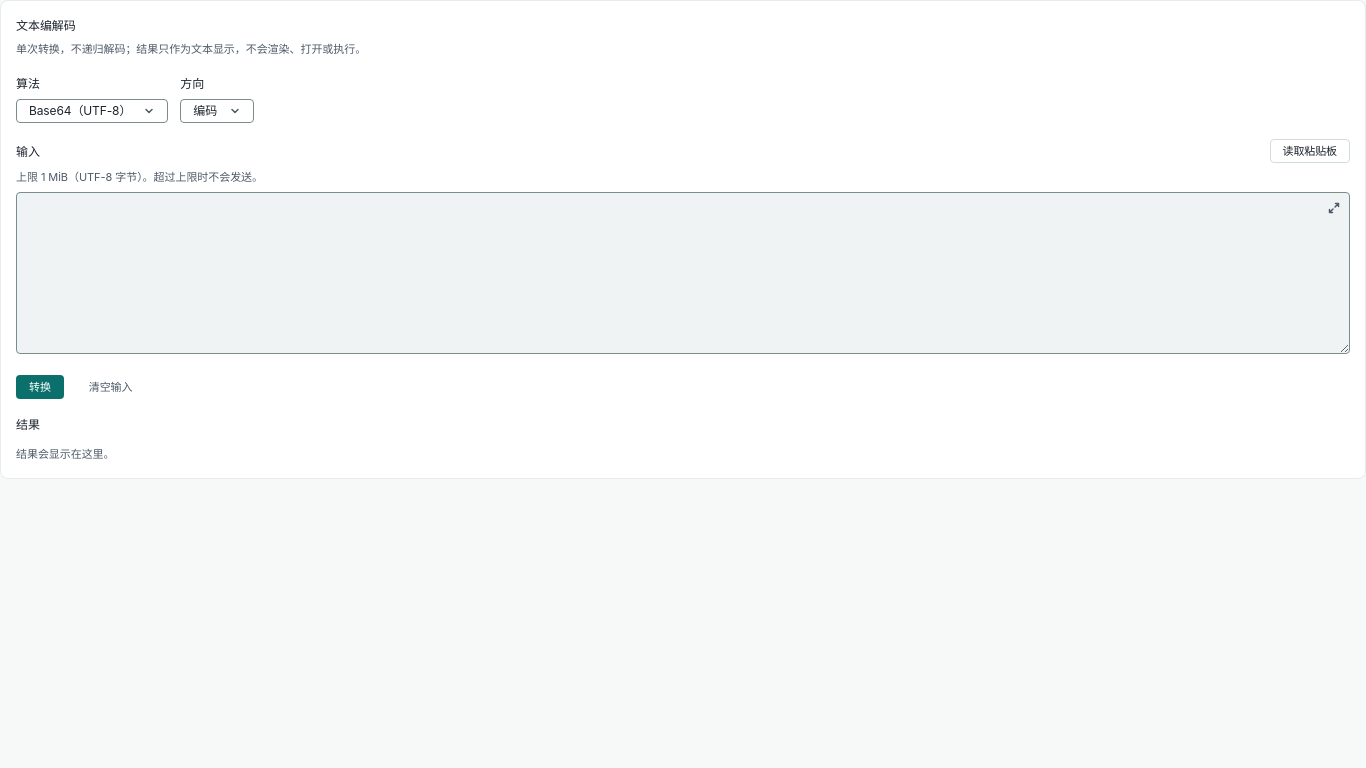
Test: 工具输入框粘贴后的状态路径 › uses the codec's existing oversized notice when pasted text is too large
The image size is (1366, 768).
Click the button "读取粘贴板": (1310, 151) [1270,139,1350,163]
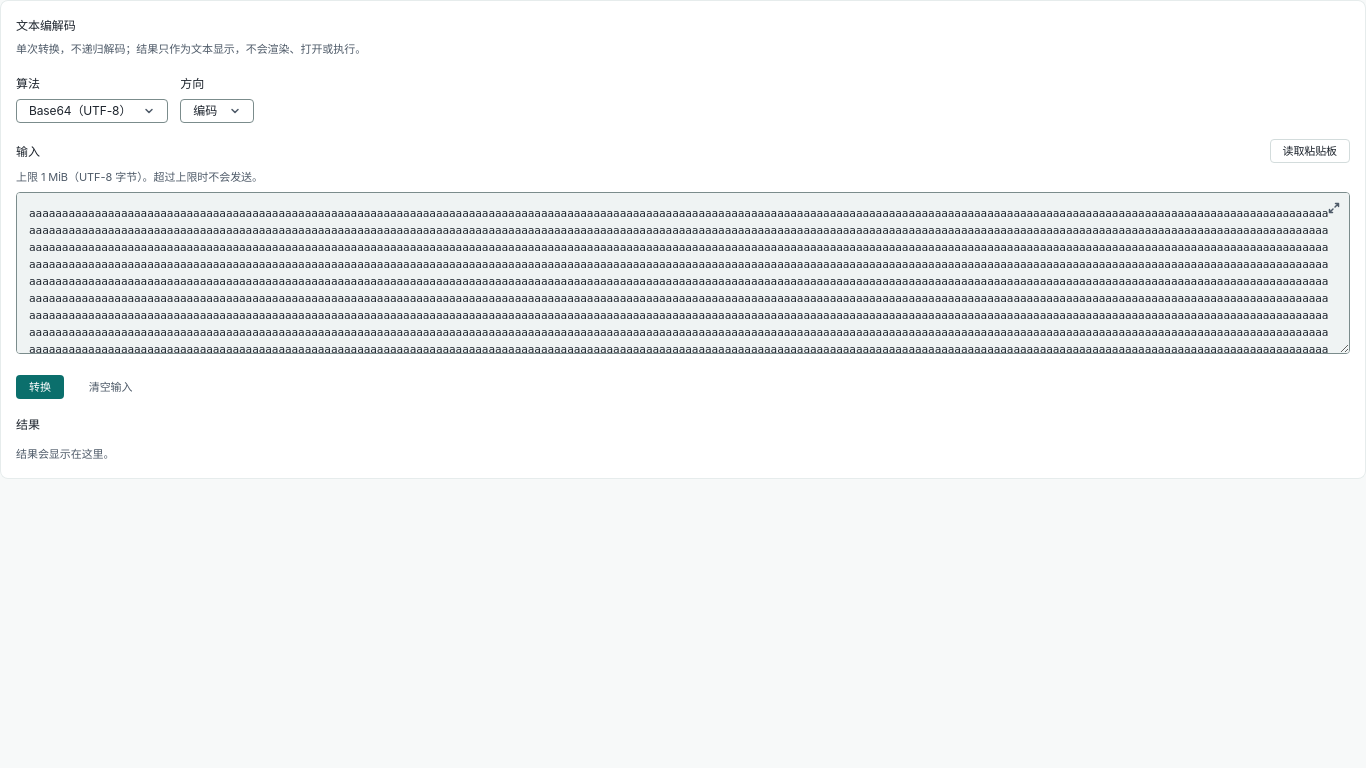
Click the button "转换": (40, 387) [16,375,64,399]
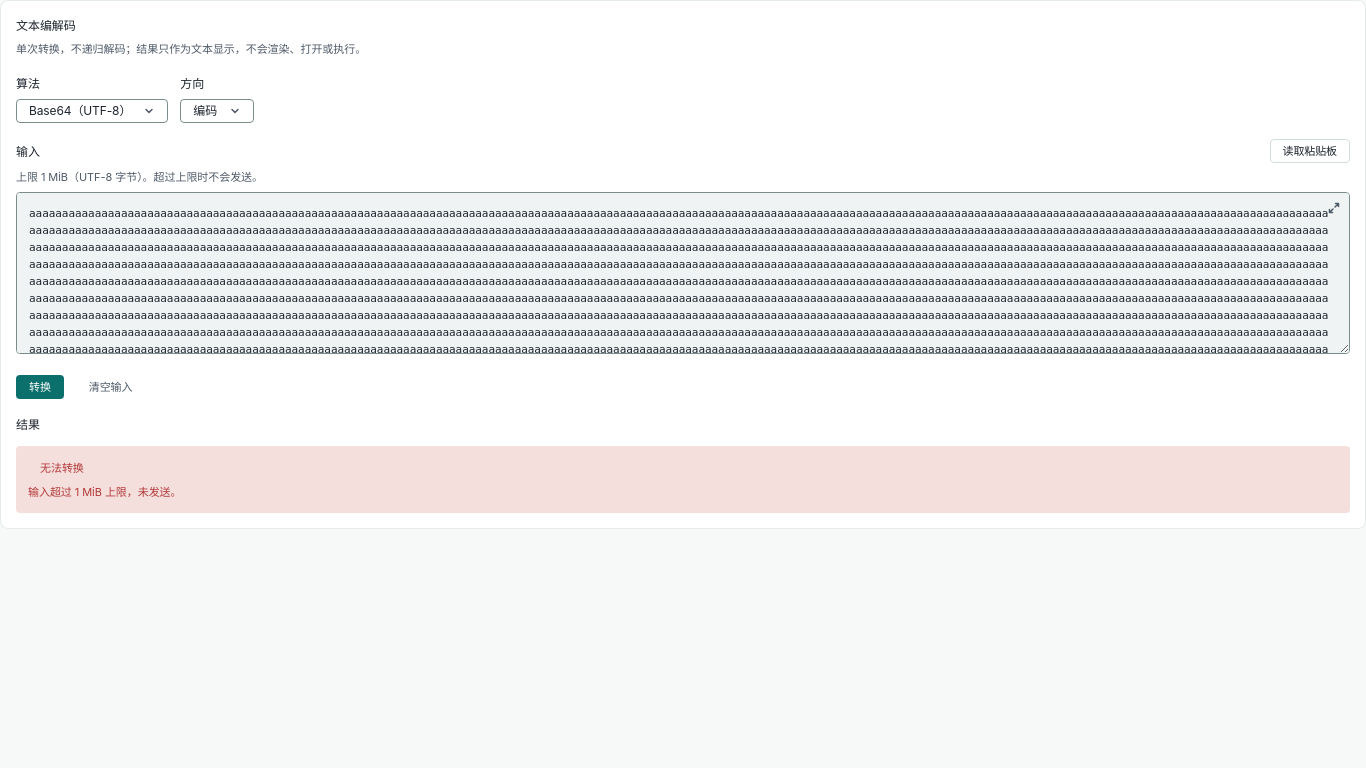
Now the text "输入超过 1 MiB 上限，未发送。" is shown, box [28,485,182,499]
